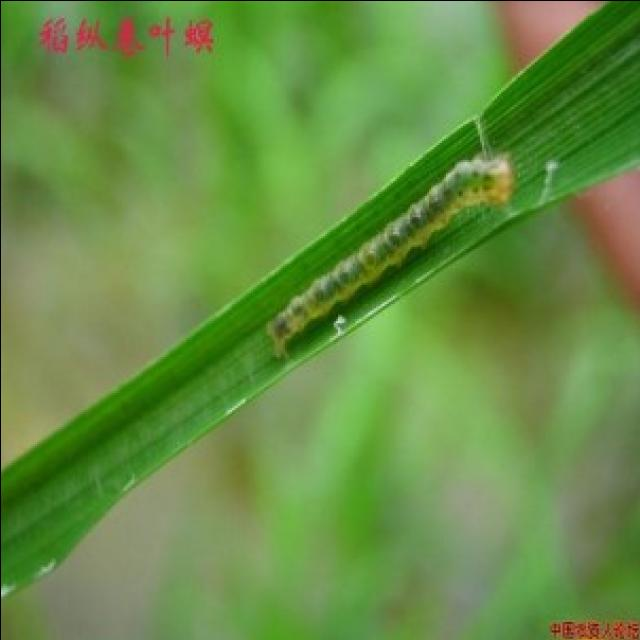rice leaf roller: (267, 153, 511, 356)
